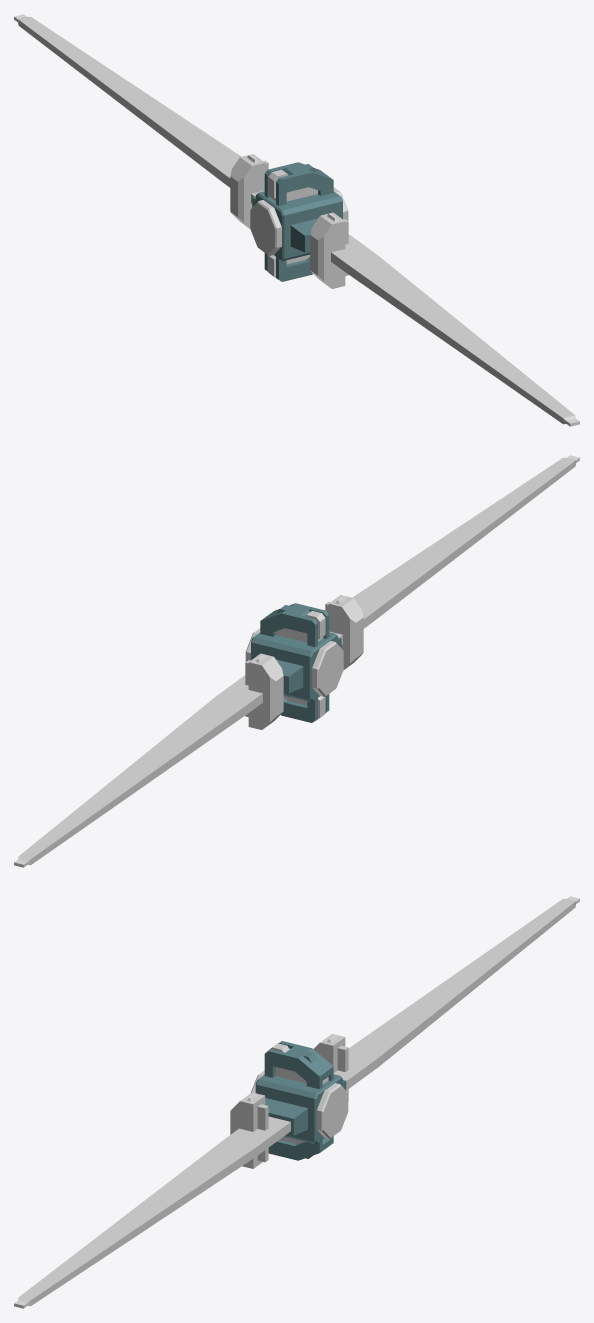
Rendered from ss_coms1.glb.
3 renders of one model, top to bottom at view 1: azimuth 30°, elevation 25°; view 2: azimuth 150°, elevation 25°; view 3: azimuth 330°, elevation 25°, orthographic.
Parts seen in each view (by area): view 1: Cube.008; view 2: Cube.008; view 3: Cube.008.
Boxes of the visible parts, x1=… form: Cube.008: x1=14, y1=14, x2=579, y2=426; Cube.008: x1=14, y1=455, x2=579, y2=867; Cube.008: x1=14, y1=896, x2=579, y2=1308.
Size of the model in its own units: 3 by 4.05 by 39.48.
